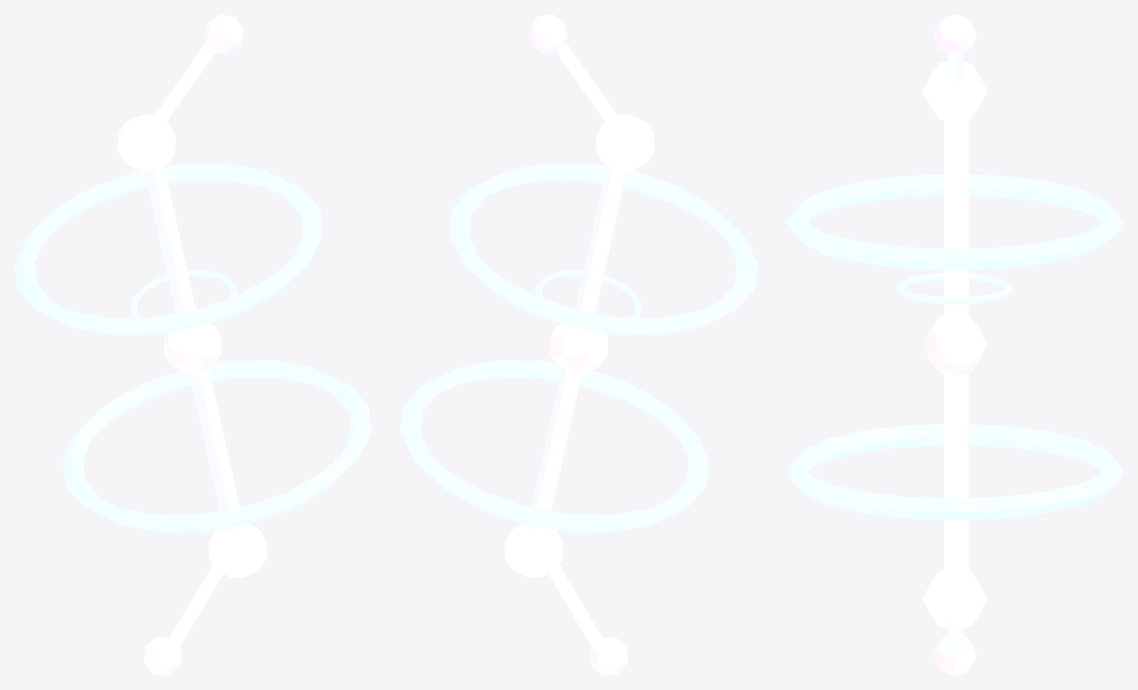
Rendered from neuron7.glb.
3 views of the same model, side by side, from view 1: azimuth 30°, elevation 25°; view 2: azimuth 150°, elevation 25°; view 3: azimuth 270°, elevation 25° (orthographic). The views are drawn at different scales.
Parts seen in each view (by area): view 1: n7; view 2: n7; view 3: n7.
Part boxes in pixels (box(x1,y1,x2,y2)): n7: box(14, 14, 371, 675); n7: box(400, 14, 757, 675); n7: box(786, 14, 1123, 675).
Size of what is drawn, in the model's own units: 2.03 by 3.96 by 1.76.
1 material, 1 textured.
